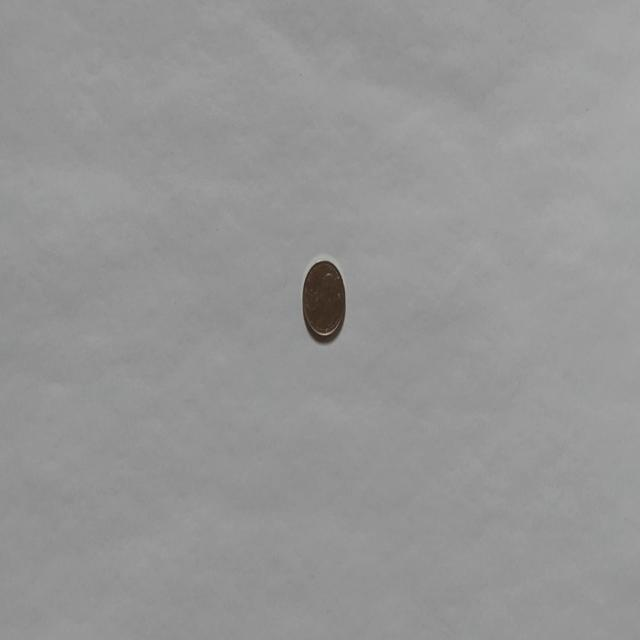seribu rupiah koin: (300, 254, 346, 343)
